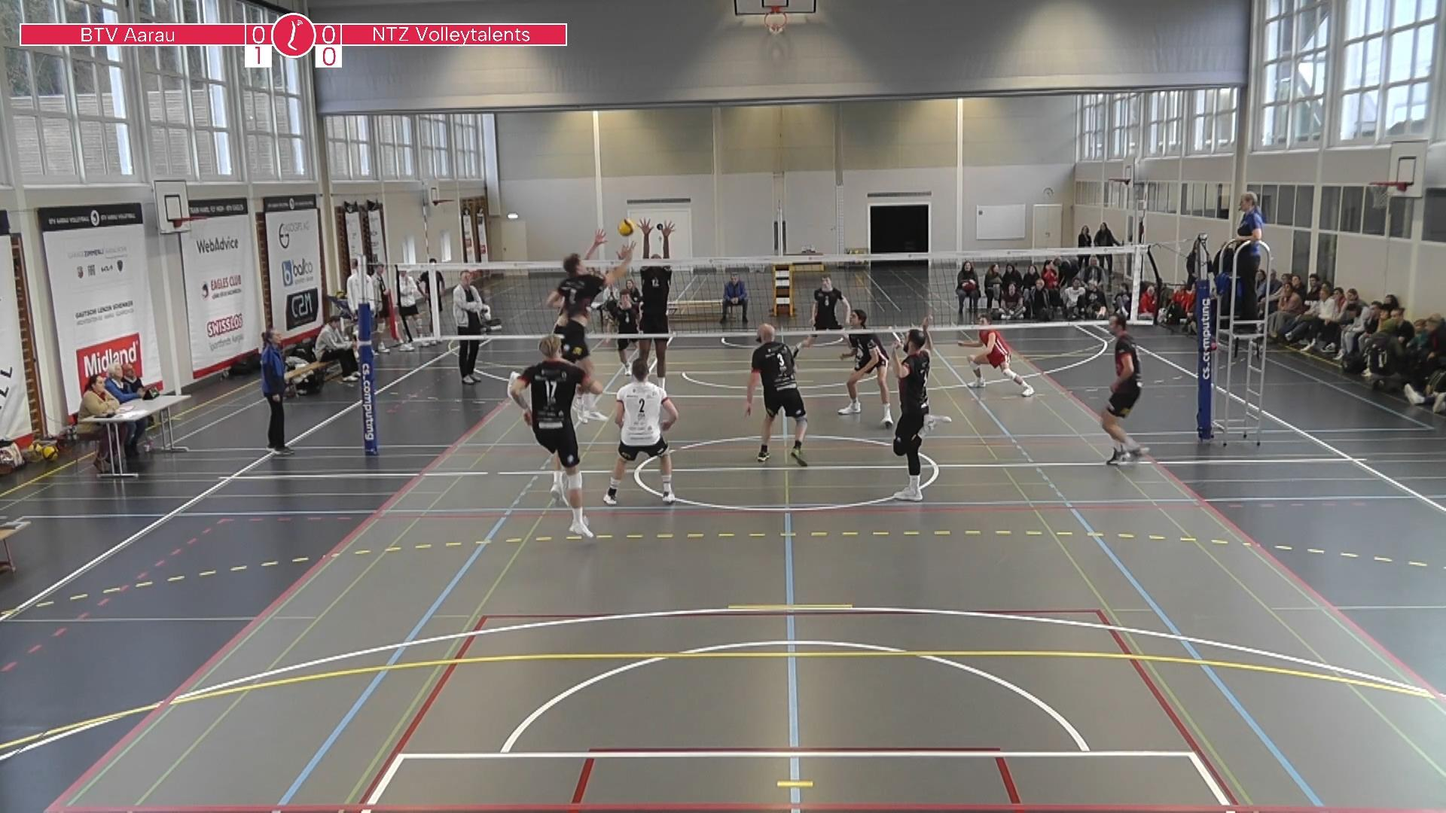attacco: (546, 240, 636, 413)
muro: (631, 212, 675, 392)
